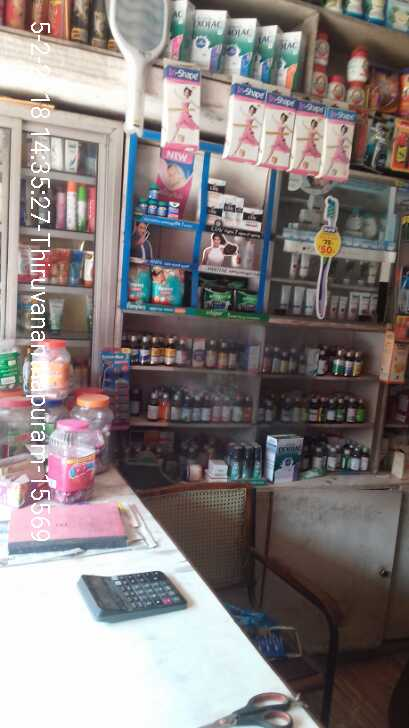vicks: (137, 179, 178, 219)
